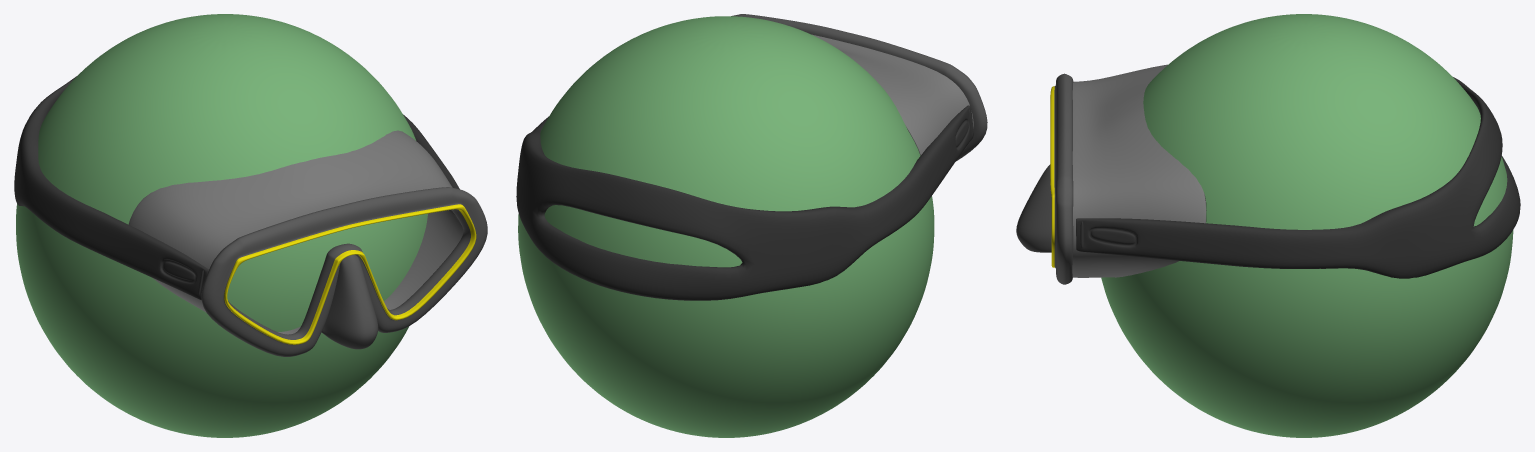
Rendered from avatarHead.fbx.
3 views of the same model, side by side, from view 1: azimuth 30°, elevation 25°; view 2: azimuth 150°, elevation 25°; view 3: azimuth 270°, elevation 25° (orthographic).
Parts seen in each view (by area): view 1: head; view 2: head; view 3: head.
Boxes of the visible parts, x1,y1,x2,y2 form: head: [14, 14, 487, 437]; head: [516, 14, 987, 437]; head: [1016, 14, 1520, 437].
Bounding box in the file's own units: 23.34 × 23.75 × 28.11.
